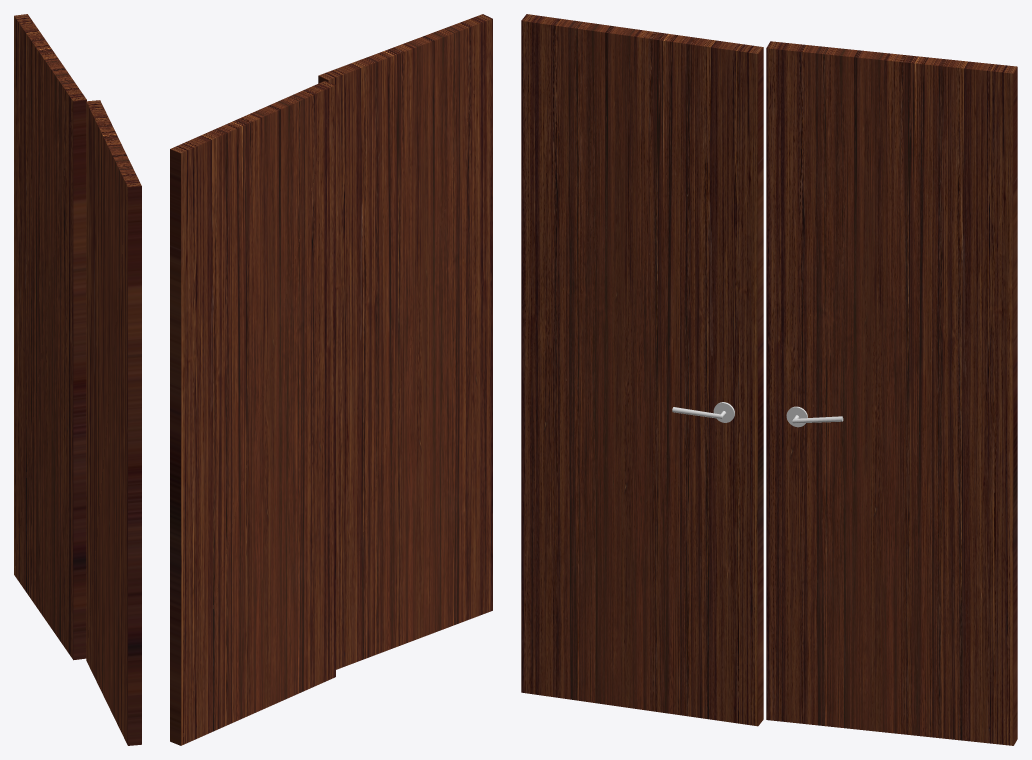
Rendered from puerta_aula1.glb.
The picture shows the model from 3 angles, left to right: view 1: azimuth 30°, elevation 25°; view 2: azimuth 150°, elevation 25°; view 3: azimuth 270°, elevation 25°; orthographic projection. The views are drawn at different scales.
Parts seen in each view (by area): view 1: puerta aula.003; view 2: puerta aula.003; view 3: puerta aula.003.
Part boxes in pixels (x1,y1,x2,y2): puerta aula.003: (14, 14, 141, 745); puerta aula.003: (170, 14, 492, 745); puerta aula.003: (521, 14, 1017, 745).
Size of the model in its own units: 2.58 by 13.5 by 9.04.
Materials: 2 (1 with a texture image).
